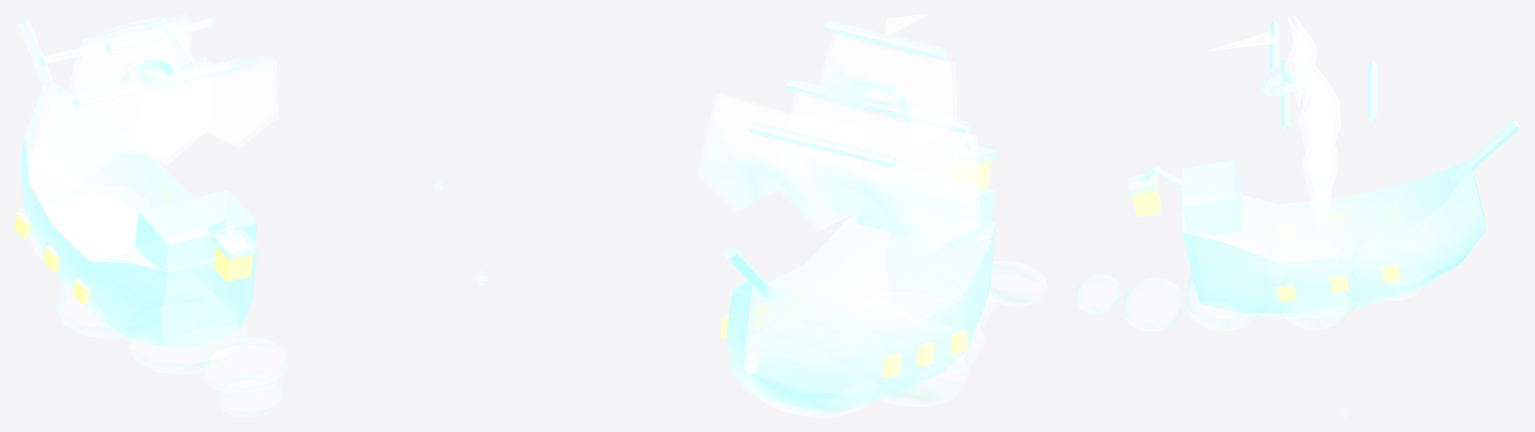
File: navire_fantome.fbx
3 renders of one model, left to right at view 1: azimuth 30°, elevation 25°; view 2: azimuth 150°, elevation 25°; view 3: azimuth 270°, elevation 25°, orthographic. The views are drawn at different scales.
Parts seen in each view (by area): view 1: Navire, Anim_VoileGrande, Anim_VoileMisaine, Anim_VoileHaute, Anim_Flamme; view 2: Navire, Anim_VoileGrande, Anim_VoileMisaine, Anim_VoileHaute; view 3: Navire, Anim_VoileGrande, Anim_VoileMisaine, Anim_VoileHaute, Anim_Flamme.
Boxes of the visible parts, left/top/right/bottom form: Navire: left=14, top=17, right=288, bottom=417; Anim_VoileGrande: left=29, top=56, right=213, bottom=186; Anim_VoileMisaine: left=131, top=55, right=278, bottom=165; Anim_VoileHaute: left=68, top=14, right=192, bottom=105; Anim_Flamme: left=160, top=19, right=198, bottom=65; Navire: left=720, top=20, right=1047, bottom=417; Anim_VoileGrande: left=772, top=92, right=981, bottom=256; Anim_VoileMisaine: left=697, top=93, right=861, bottom=232; Anim_VoileHaute: left=817, top=33, right=957, bottom=145; Navire: left=1076, top=20, right=1520, bottom=330; Anim_VoileGrande: left=1298, top=60, right=1340, bottom=190; Anim_VoileMisaine: left=1301, top=110, right=1338, bottom=230; Anim_VoileHaute: left=1287, top=15, right=1316, bottom=106; Anim_Flamme: left=1209, top=31, right=1273, bottom=50.
Size of the model in its own units: 1.35 by 0.9885 by 1.37.
